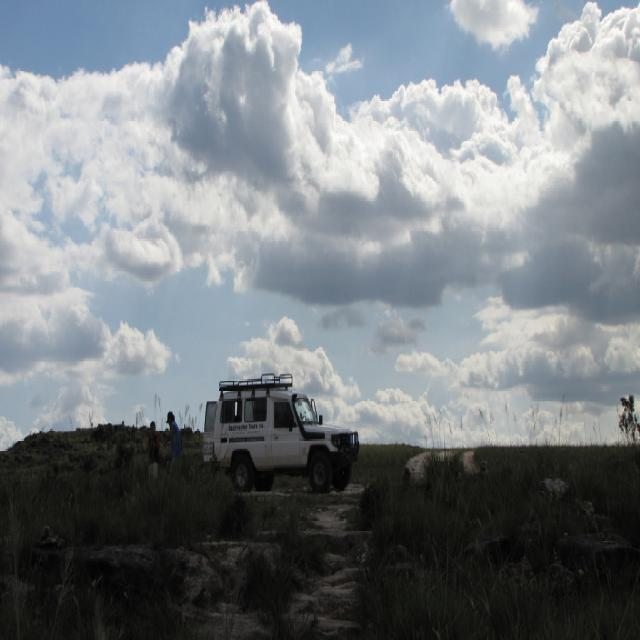other: (204, 374, 358, 494)
